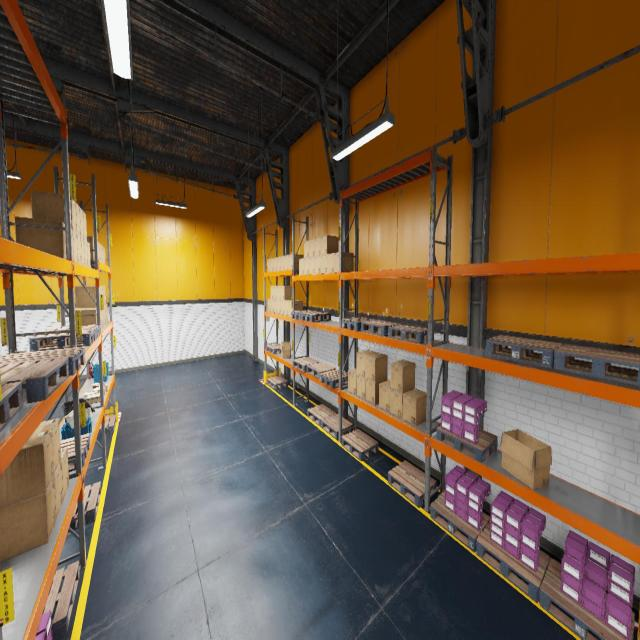box: (0, 476, 56, 562), (0, 430, 54, 508), (500, 429, 552, 490), (15, 216, 66, 259), (30, 190, 76, 233), (33, 418, 61, 473), (403, 388, 426, 426), (390, 360, 415, 393), (390, 388, 413, 419), (366, 352, 388, 382), (366, 378, 388, 405), (356, 350, 377, 378), (75, 286, 101, 308), (54, 461, 63, 519), (61, 448, 69, 500), (334, 252, 353, 272), (75, 308, 97, 325), (379, 380, 390, 412), (321, 235, 338, 255), (288, 300, 303, 316), (356, 375, 365, 400), (289, 254, 303, 269), (348, 369, 356, 395), (284, 300, 296, 315), (280, 342, 291, 358), (87, 236, 94, 260), (73, 231, 78, 263), (92, 382, 105, 394), (77, 233, 82, 264), (281, 286, 292, 300), (84, 390, 98, 400), (327, 253, 334, 273), (76, 202, 80, 236), (87, 394, 100, 404), (80, 207, 84, 239), (83, 211, 87, 241), (81, 237, 85, 266), (321, 254, 327, 273), (84, 239, 88, 267), (87, 242, 91, 267), (92, 382, 104, 390), (315, 255, 320, 274), (315, 237, 320, 256), (309, 239, 314, 257), (304, 240, 309, 258), (309, 256, 314, 274), (299, 258, 304, 275), (96, 384, 108, 391), (304, 258, 309, 274), (72, 229, 74, 262), (284, 254, 288, 270), (270, 286, 274, 299), (270, 258, 274, 271), (270, 300, 274, 312), (281, 300, 284, 314), (281, 256, 284, 270), (277, 256, 280, 270), (267, 258, 270, 272), (103, 306, 105, 326), (277, 300, 280, 313), (277, 286, 280, 299), (99, 243, 101, 262), (100, 244, 102, 263), (102, 245, 104, 264), (102, 286, 104, 305), (104, 286, 106, 305), (100, 310, 102, 328), (106, 304, 108, 322), (102, 310, 104, 326), (274, 299, 276, 313), (268, 298, 270, 312), (274, 257, 276, 271), (274, 286, 276, 299), (98, 241, 99, 261), (105, 304, 106, 324), (104, 247, 105, 264), (101, 286, 102, 294)
pallets: (539, 558, 635, 640), (476, 520, 550, 603), (430, 490, 490, 552), (554, 344, 640, 386), (0, 358, 69, 403), (42, 560, 80, 640), (486, 335, 564, 367), (0, 346, 85, 375), (388, 460, 436, 508), (437, 425, 498, 462), (68, 482, 100, 532), (28, 329, 96, 351), (60, 433, 90, 472), (342, 429, 378, 461), (0, 381, 22, 432), (44, 325, 100, 342), (388, 324, 434, 344), (321, 414, 353, 439), (361, 320, 403, 336), (307, 404, 336, 426), (319, 369, 348, 388), (306, 362, 336, 379), (342, 317, 378, 331), (97, 415, 116, 437), (293, 357, 319, 372), (301, 312, 331, 322), (267, 376, 288, 389), (291, 310, 318, 319), (266, 344, 281, 354)
